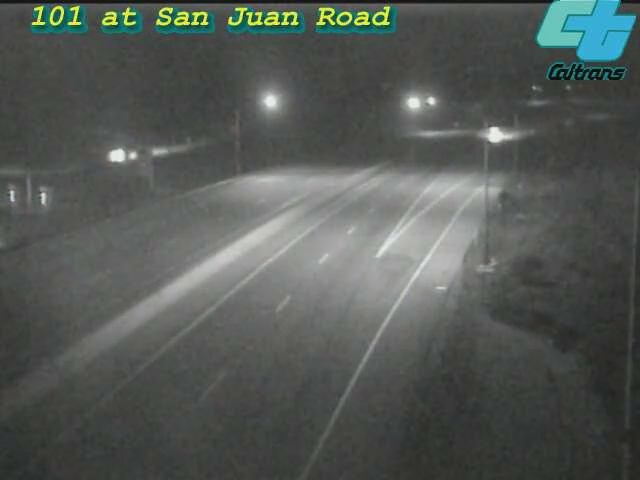vehicle: (472, 110, 522, 160)
